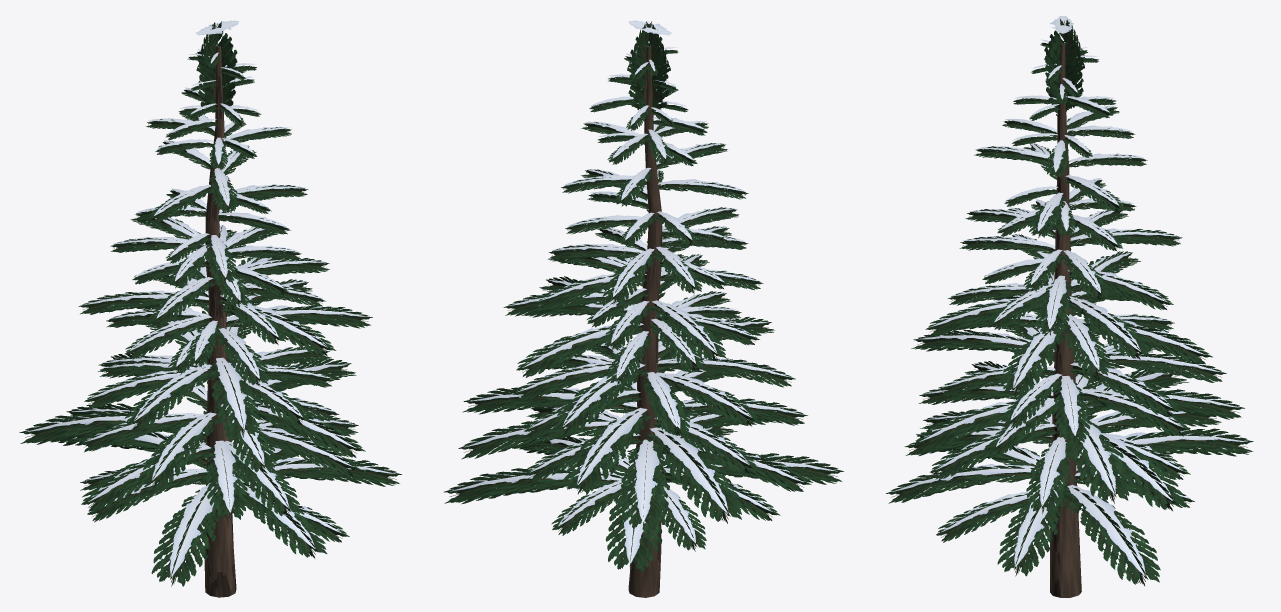
File: SM_Snow_Spruce_A.glb
3 views of the same model, side by side, from view 1: azimuth 30°, elevation 25°; view 2: azimuth 150°, elevation 25°; view 3: azimuth 270°, elevation 25° (orthographic).
Parts seen in each view (by area): view 1: SM_Snow_Spruce_A; view 2: SM_Snow_Spruce_A; view 3: SM_Snow_Spruce_A.
Boxes of the visible parts, left/top/right/bottom form: SM_Snow_Spruce_A: left=19, top=20, right=401, bottom=597; SM_Snow_Spruce_A: left=443, top=20, right=843, bottom=597; SM_Snow_Spruce_A: left=886, top=16, right=1253, bottom=597.
Size of the model in its own units: 2.33 by 3.85 by 2.35.
Materials: 3 (3 with a texture image).
